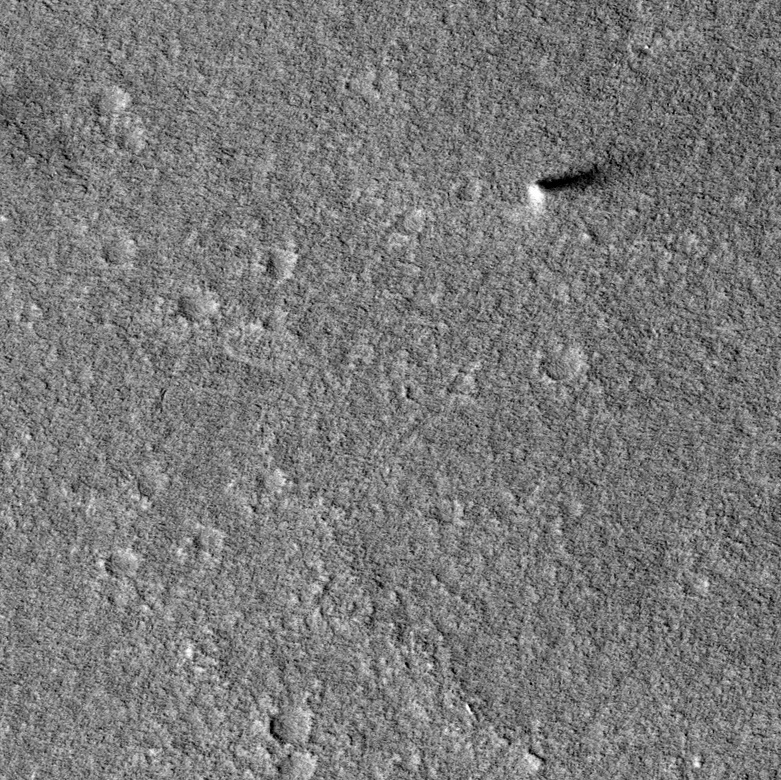dust_devil: (526, 154, 639, 217)
